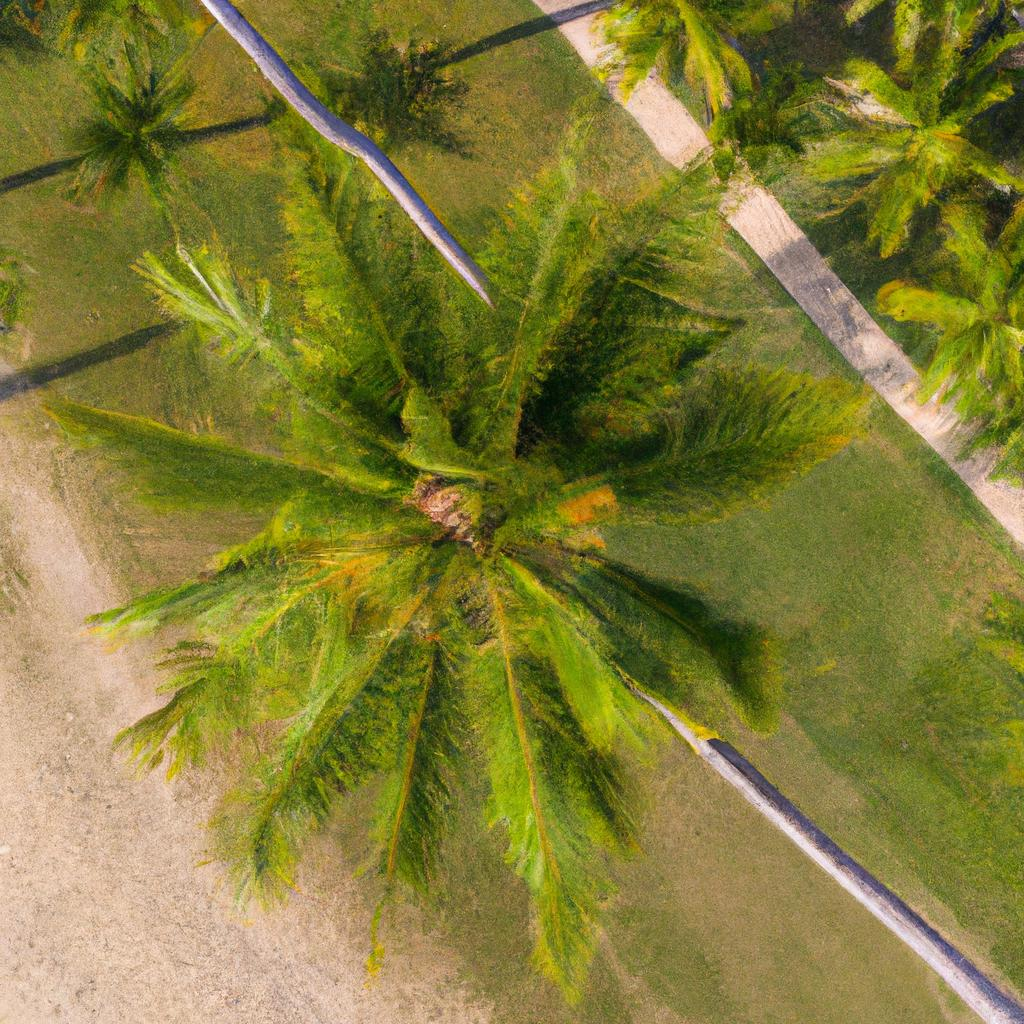coconut_tree: (74, 159, 836, 1003), (785, 43, 1014, 259)
